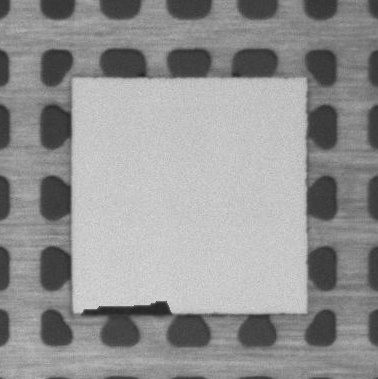DIE_BROKEN: (81, 298, 173, 317)
